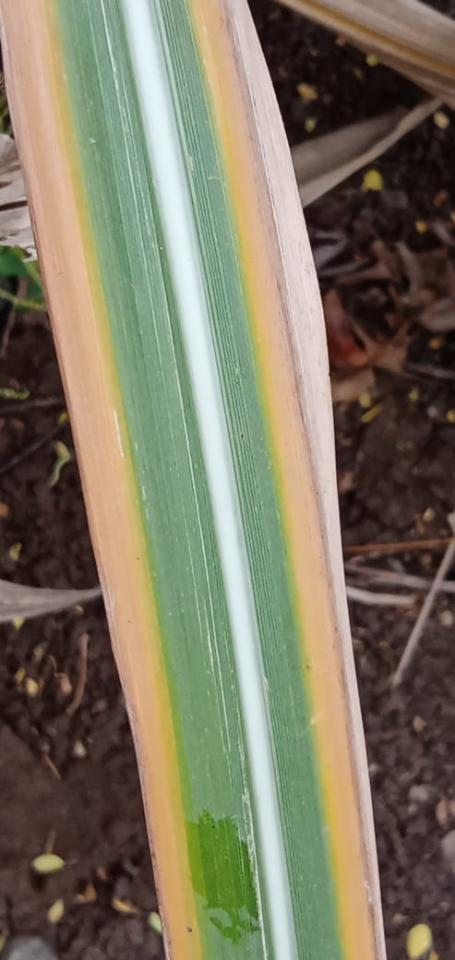Rust: (186, 926, 194, 933)
Yellow: (0, 0, 203, 959), (193, 0, 386, 959)
